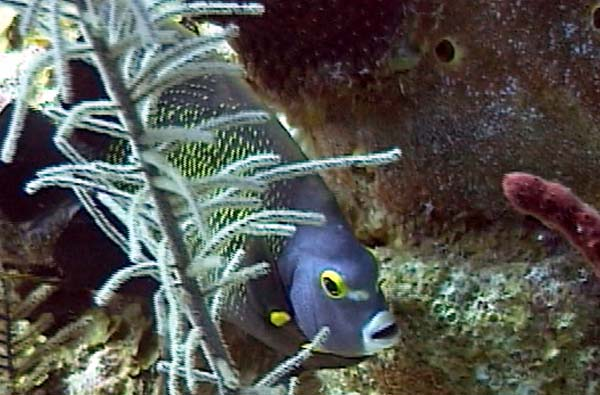Pomacanthus_paru: (14, 14, 409, 369)
